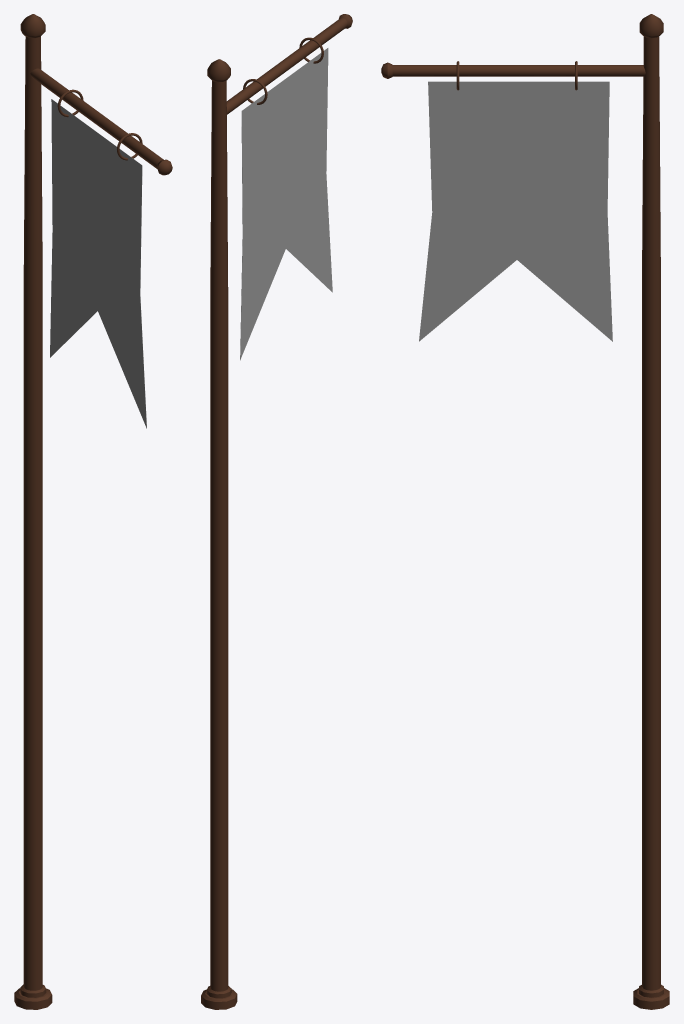
Rendered from Flag_white.obj.
3 views of the same model, side by side, from view 1: azimuth 30°, elevation 25°; view 2: azimuth 150°, elevation 25°; view 3: azimuth 270°, elevation 25° (orthographic). The views are drawn at different scales.
Visible parts, largest first — view 1: Tube001, Box004, Box003, Box002, Tube002, ChamferCyl002, ChamferCyl003; view 2: Tube001, Box004, Box003, Box002, Tube002, ChamferCyl002, ChamferCyl003; view 3: Box004, Tube001, Box002, Box001, Tube002.
Boxes of the visible parts, x1,y1,x2,y2 form: Tube001: [23, 36, 42, 990]; Box004: [51, 99, 146, 428]; Box003: [50, 102, 142, 357]; Box002: [50, 176, 142, 357]; Tube002: [30, 68, 163, 168]; ChamferCyl002: [14, 988, 52, 1009]; ChamferCyl003: [20, 14, 45, 37]; Tube001: [210, 80, 228, 991]; Box004: [241, 79, 332, 292]; Box003: [241, 48, 328, 247]; Box002: [240, 235, 285, 360]; Tube002: [226, 18, 347, 114]; ChamferCyl002: [201, 989, 237, 1009]; ChamferCyl003: [207, 59, 230, 82]; Box004: [428, 81, 612, 341]; Tube001: [642, 36, 660, 990]; Box002: [517, 81, 609, 259]; Box001: [419, 212, 516, 341]; Tube002: [392, 65, 645, 76].
Size of the model in its own units: 2.58 by 73.53 by 19.44.
